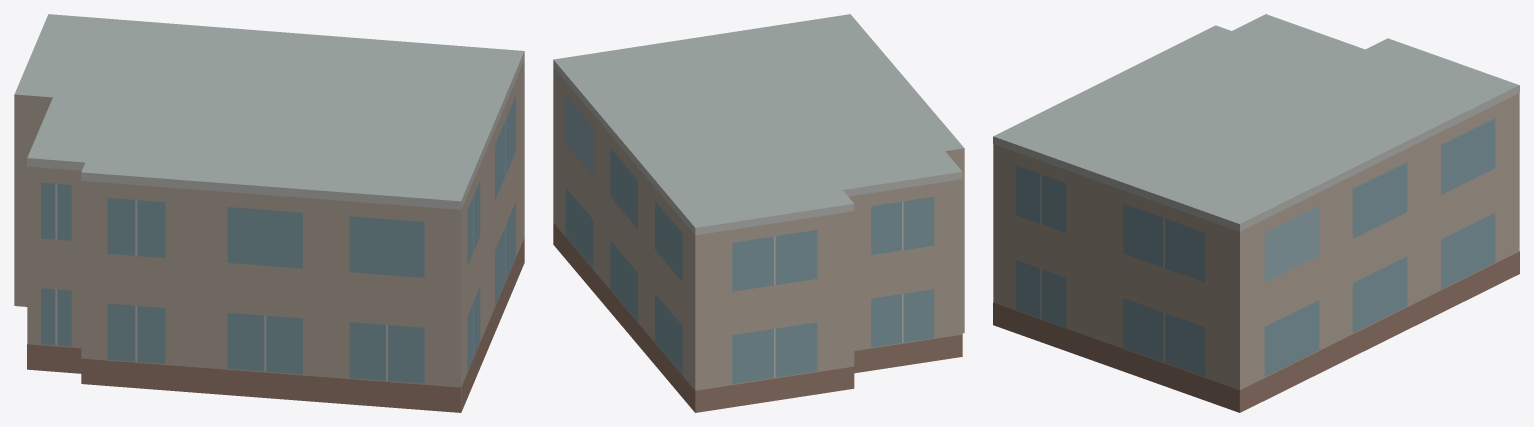
Rendered from survey-upis-32914609.glb.
3 views of the same model, side by side, from view 1: azimuth 30°, elevation 25°; view 2: azimuth 150°, elevation 25°; view 3: azimuth 270°, elevation 25° (orthographic). The views are drawn at different scales.
Parts seen in each view (by area): view 1: survey-upis-32914609.tmp; view 2: survey-upis-32914609.tmp; view 3: survey-upis-32914609.tmp.
Boxes of the visible parts, x1,y1,x2,y2 form: survey-upis-32914609.tmp: [14, 14, 524, 412]; survey-upis-32914609.tmp: [553, 14, 964, 412]; survey-upis-32914609.tmp: [993, 14, 1519, 412].
Size of the model in its own units: 14.58 by 6.1 by 15.43.
